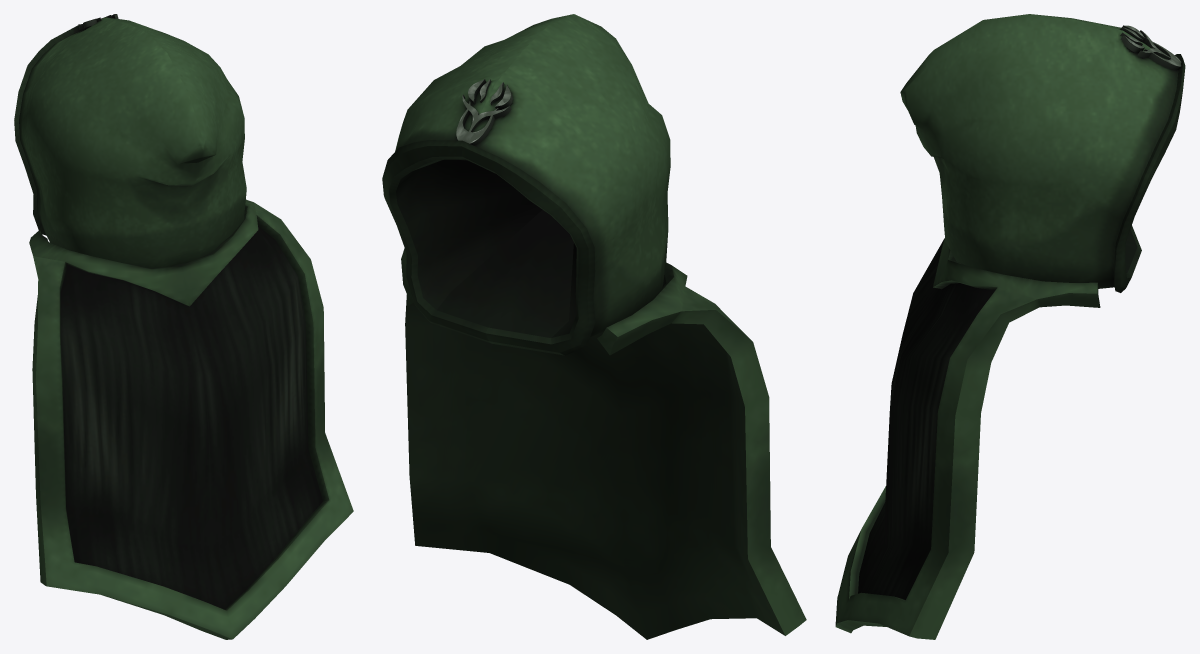
3 renders of one model, left to right at view 1: azimuth 30°, elevation 25°; view 2: azimuth 150°, elevation 25°; view 3: azimuth 270°, elevation 25°, orthographic. The views are drawn at different scales.
Parts seen in each view (by area): view 1: Mesh; view 2: Mesh; view 3: Mesh.
Part boxes in pixels (x1=…): Mesh: x1=14, y1=14, x2=353, y2=639; Mesh: x1=382, y1=14, x2=806, y2=639; Mesh: x1=835, y1=14, x2=1185, y2=639.
Bounding box in the file's own units: 1.15 × 1.96 × 1.
